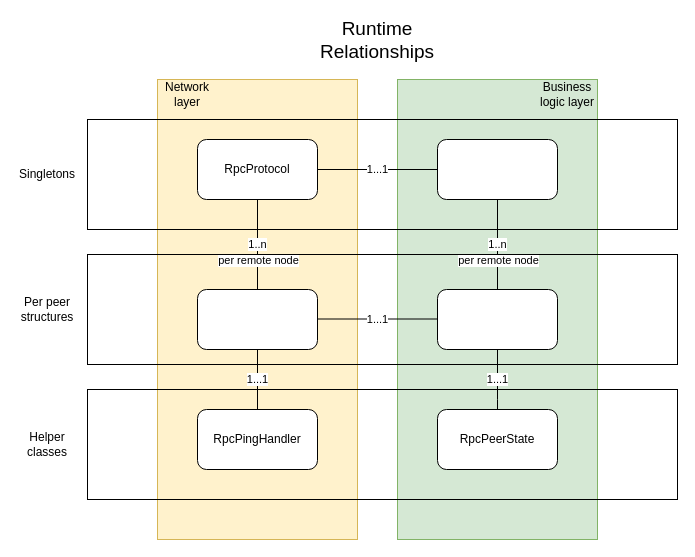
Some shapes in this 695 by 557 pixel diagram are drawn without their labels. The shapes that lost their labels are listed below. From the top down, each one's box as (x1, y1, x2, y2) in pixels, then its label:
(436, 138, 558, 200): GossipRpc Shadowgraph Synchronizer
(196, 288, 318, 350): RpcPeerProtocol
(436, 288, 558, 350): RpcPeerHandler
